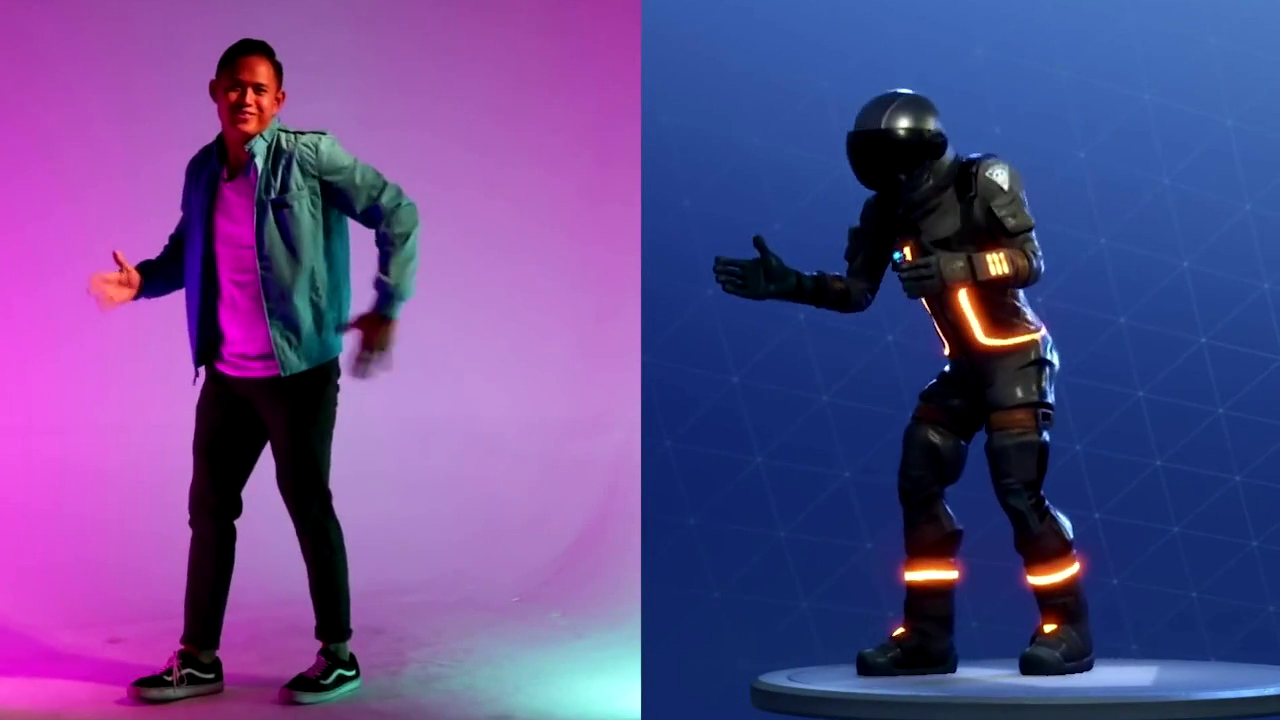Head: (206, 32, 302, 155)
Hip: (176, 337, 371, 458)
LeftAnkle: (268, 610, 391, 706)
LeftElbow: (352, 181, 451, 258)
LeftKnee: (271, 468, 372, 557)
LeftShoulder: (272, 122, 375, 211)
LeftWrist: (320, 299, 431, 393)
RightAnkle: (129, 614, 228, 717)
RightKnee: (169, 471, 273, 571)
RightShoulder: (166, 123, 241, 202)
RightWrist: (81, 250, 160, 329)
Torso: (185, 145, 348, 378)
